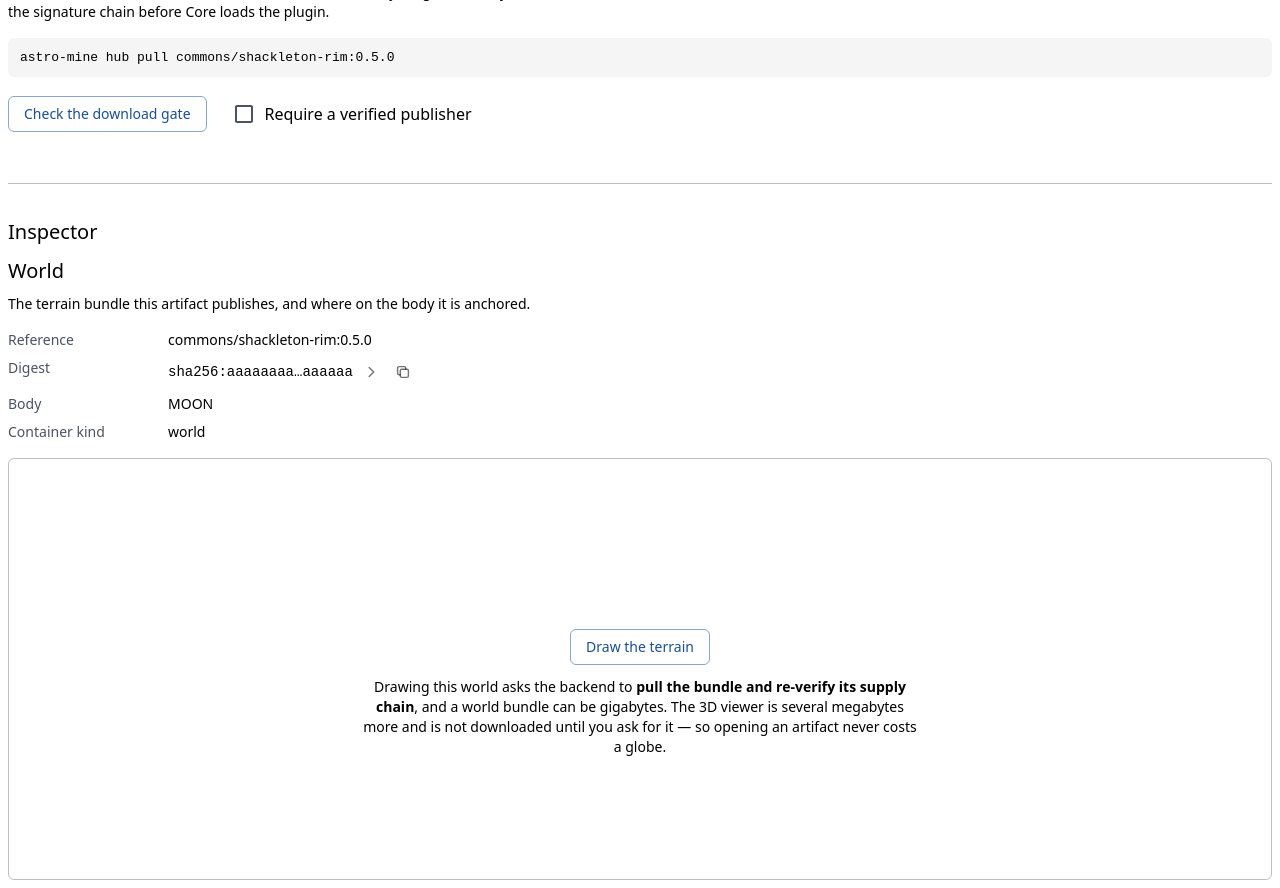
the world artifact's terrain › renders the backend's own reason when the world will not resolve
(page scrolled)
Click the button "Draw the terrain" at (640, 647), box [570,629,710,665]
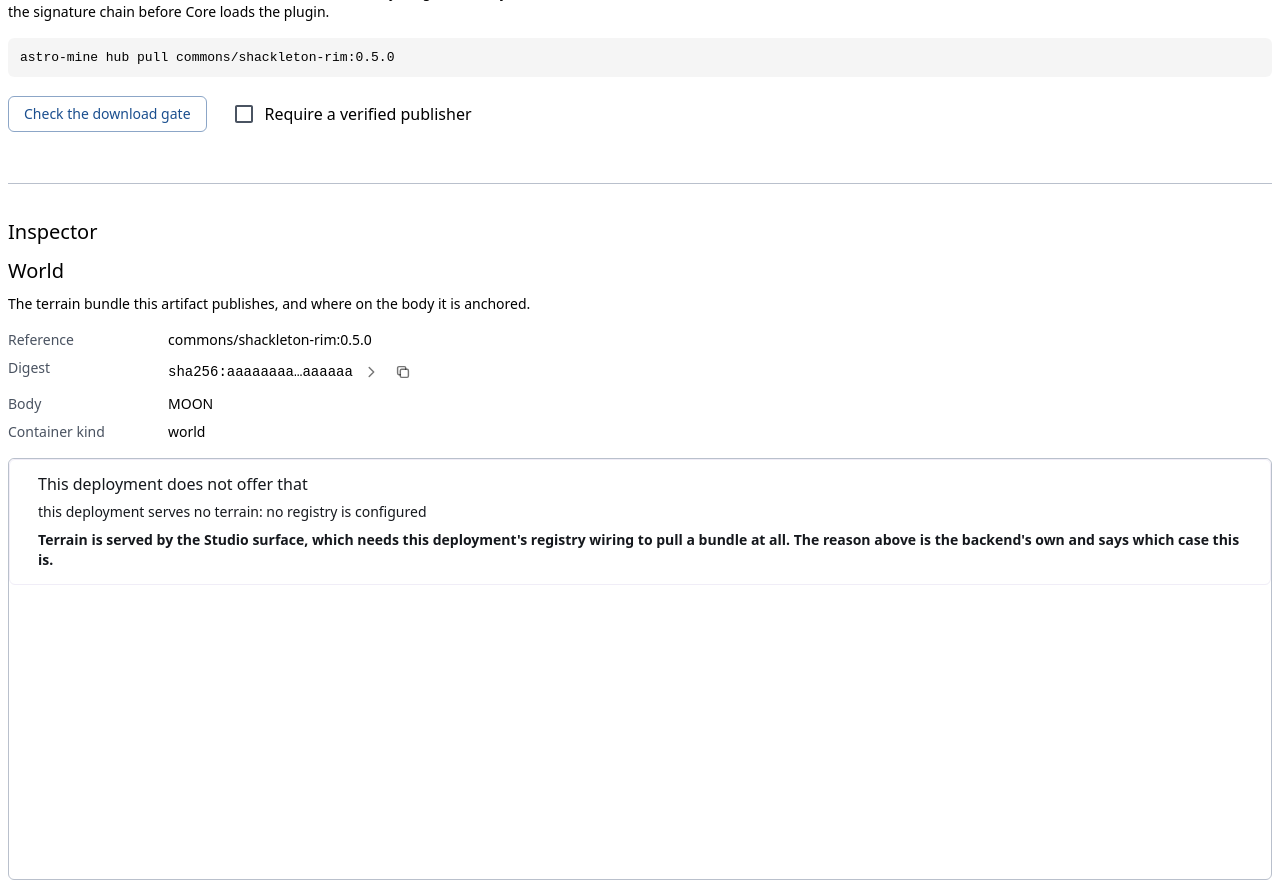
Expected: the text "this deployment serves no terrain: no registry is configured" is shown, [38,502,426,520]
